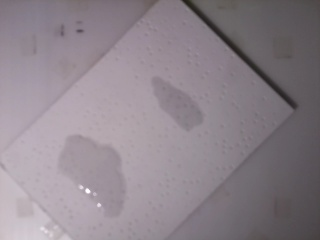Water_detected: (72, 148, 119, 208), (154, 81, 197, 128)
